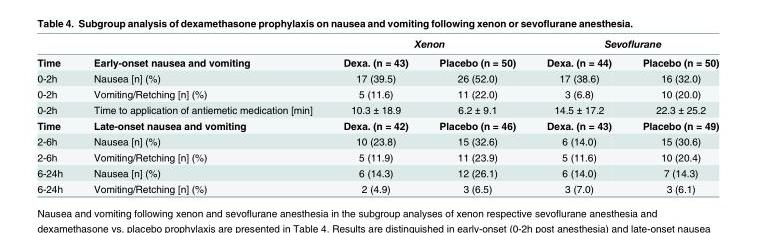table: (36, 36, 718, 194)
table column: (77, 36, 327, 194), (423, 36, 530, 194), (327, 36, 423, 194), (530, 36, 626, 194), (626, 36, 718, 194), (36, 36, 77, 194)
table column header: (36, 36, 718, 70)
table row: (36, 52, 718, 70), (36, 36, 718, 52), (36, 85, 718, 101), (36, 101, 718, 117), (36, 117, 718, 133), (36, 148, 718, 164), (36, 164, 718, 180), (36, 70, 718, 85), (36, 133, 718, 148), (36, 180, 718, 194)
table spanning cell: (77, 36, 327, 70), (327, 36, 530, 52), (530, 36, 718, 52), (36, 36, 77, 70)
